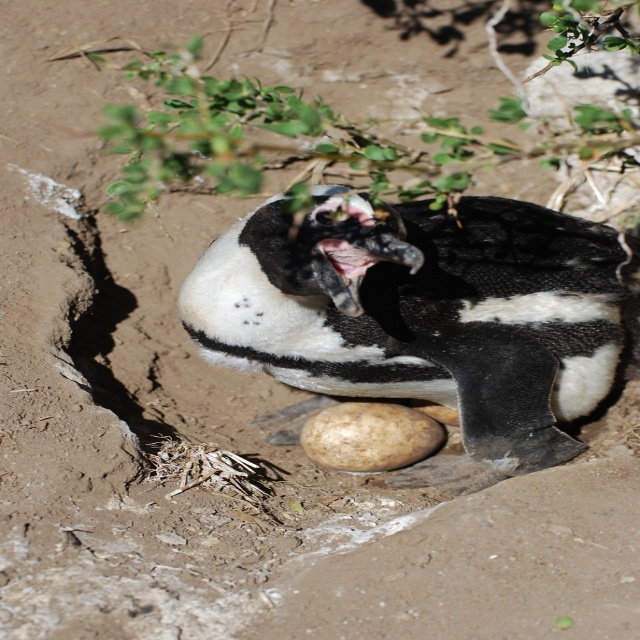Penguin: (174, 182, 639, 502)
